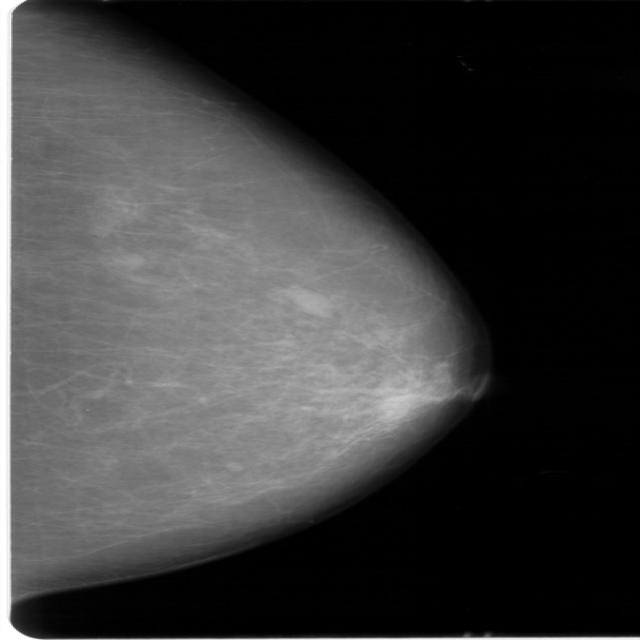tumour: (281, 285, 332, 317)
